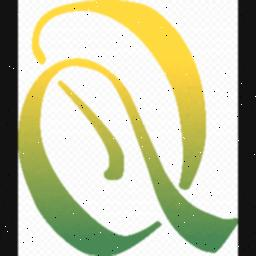q: (19, 1, 239, 255)
